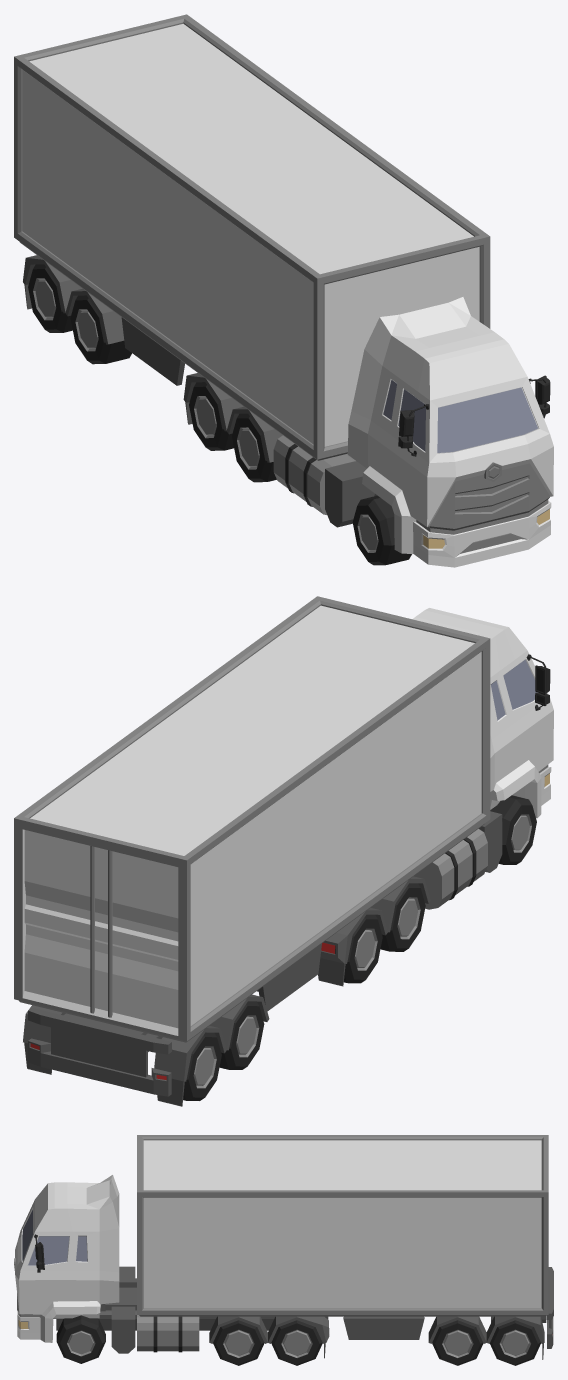
Rendered from cargo_truck.glb.
3 views of the same model, one above another, from view 1: azimuth 30°, elevation 25°; view 2: azimuth 150°, elevation 25°; view 3: azimuth 270°, elevation 25° (orthographic). The views are drawn at different scales.
Visible parts, largest first — view 1: Cargo, Truck, CargoHoldThing, FrontTires, CargoTires01, TruckTiresBack2, TruckTiresBack1, CargoTires02; view 2: Cargo, Truck, CargoHoldThing, FrontTires, TruckTiresBack1, CargoTires01, TruckTiresBack2, CargoTires02; view 3: Cargo, Truck, CargoHoldThing, FrontTires, TruckTiresBack1, TruckTiresBack2, CargoTires01, CargoTires02.
Part boxes in pixels (box(x1,y1,x2,y2)): Cargo: box(14, 14, 490, 460); Truck: box(183, 297, 553, 567); CargoHoldThing: box(23, 255, 184, 385); FrontTires: box(352, 495, 411, 565); CargoTires01: box(70, 295, 131, 364); TruckTiresBack2: box(189, 382, 233, 450); TruckTiresBack1: box(232, 413, 276, 482); CargoTires02: box(28, 264, 72, 332); Cargo: box(14, 596, 490, 1042); Truck: box(318, 608, 553, 986); CargoHoldThing: box(23, 943, 321, 1106); FrontTires: box(490, 795, 536, 864); TruckTiresBack1: box(380, 883, 425, 951); CargoTires01: box(219, 1001, 264, 1069); TruckTiresBack2: box(344, 914, 382, 983); CargoTires02: box(183, 1032, 221, 1100); Cargo: box(137, 1135, 548, 1316); Truck: box(14, 1175, 329, 1358); CargoHoldThing: box(343, 1267, 553, 1359); FrontTires: box(56, 1315, 105, 1363); TruckTiresBack1: box(213, 1320, 264, 1365); TruckTiresBack2: box(271, 1320, 322, 1365); CargoTires01: box(432, 1320, 483, 1365); CargoTires02: box(490, 1320, 540, 1365).
Size of the model in its own units: 1.68 by 2.42 by 6.68.
